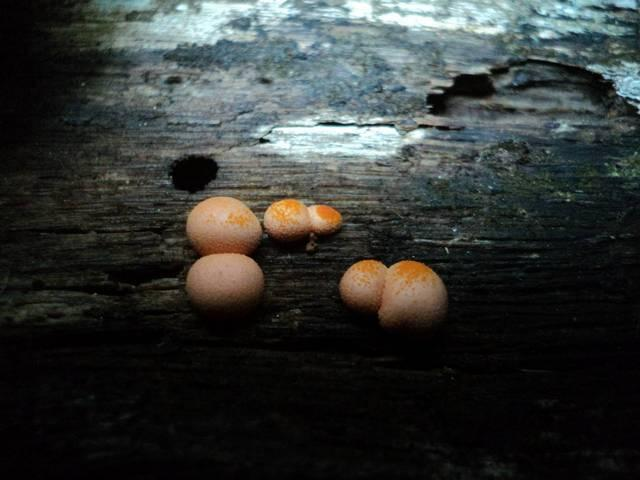poisonous_mushroom: (377, 258, 448, 332), (184, 252, 264, 316), (185, 195, 262, 255), (338, 258, 387, 313), (262, 197, 311, 241), (307, 203, 342, 236)
